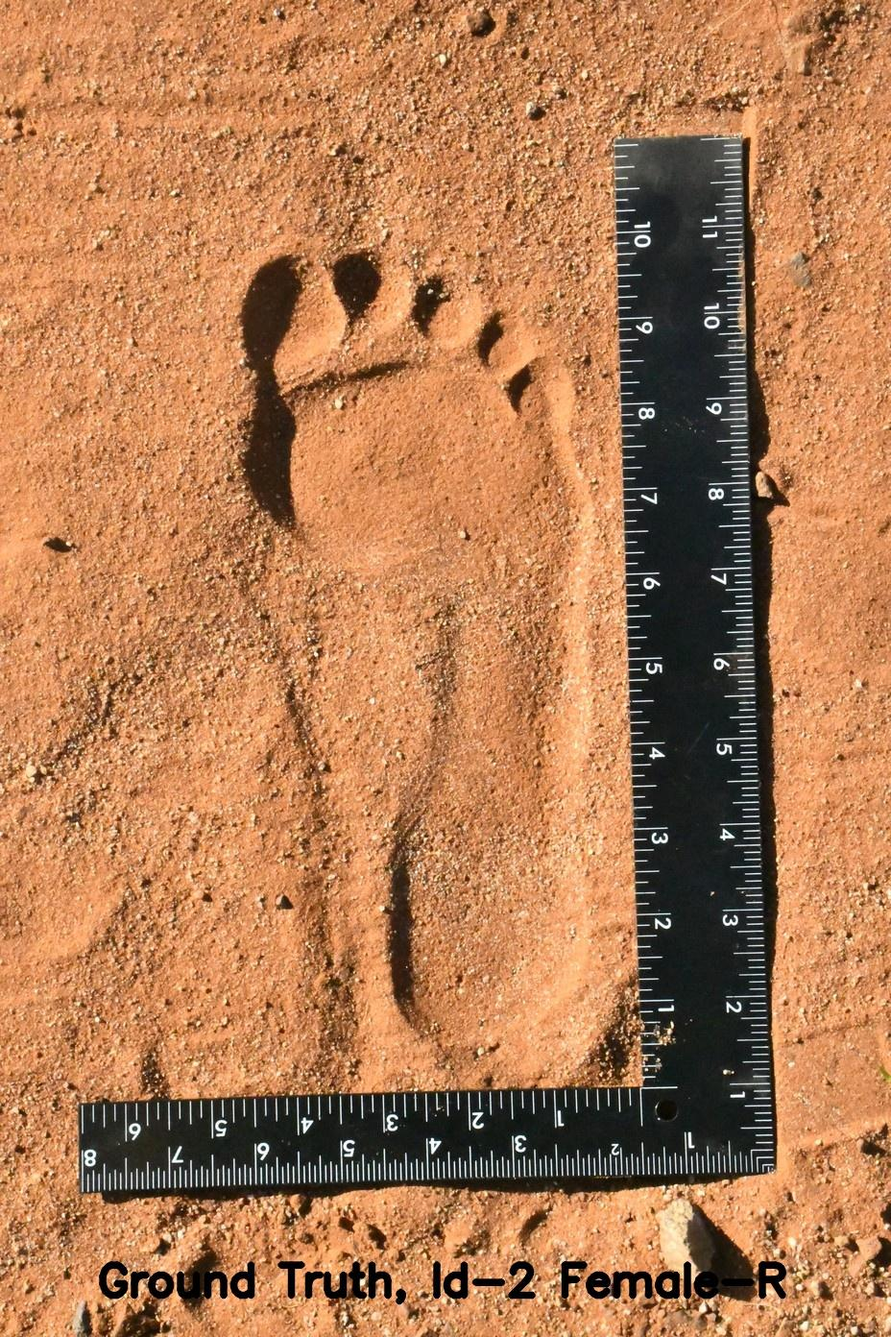human_foot_print: (177, 221, 624, 1072)
